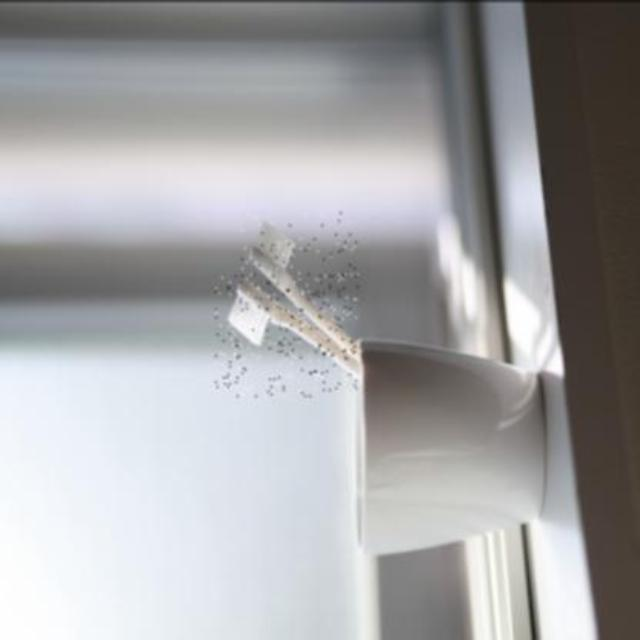toothbrush: (216, 272, 360, 396), (242, 211, 356, 347)
